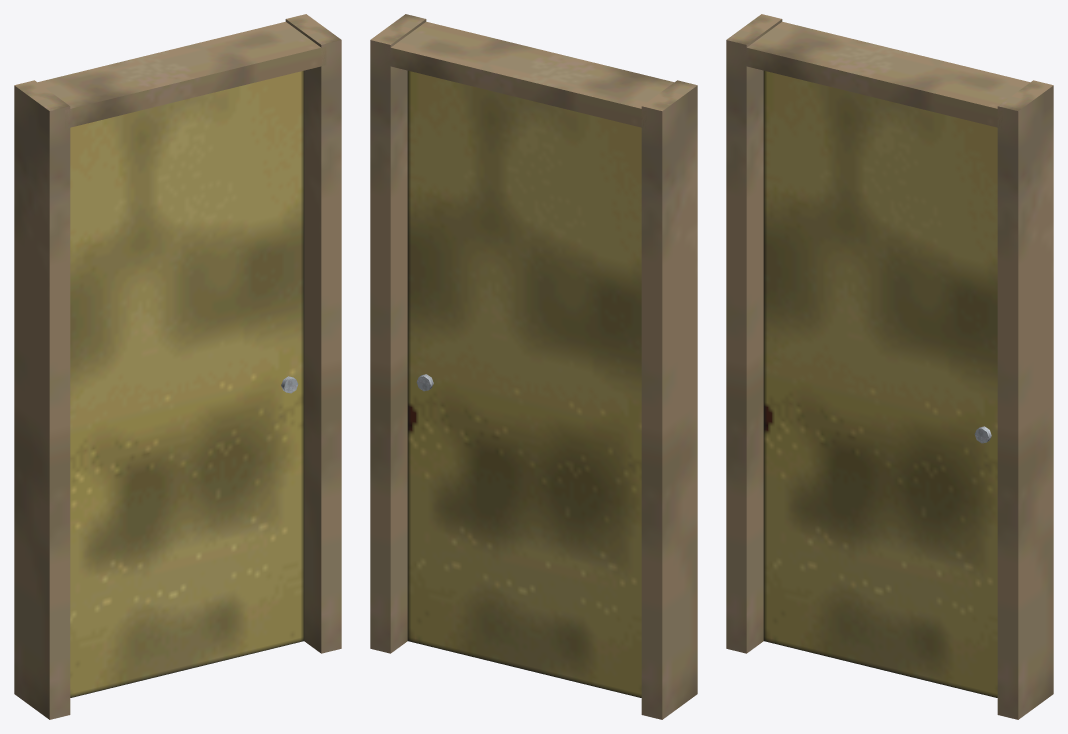
Rendered from door_yellow.fbx.
The picture shows the model from 3 angles, left to right: view 1: azimuth 30°, elevation 25°; view 2: azimuth 150°, elevation 25°; view 3: azimuth 330°, elevation 25°; orthographic projection.
Visible parts, largest first — view 1: door_yellow_leaf, door_yellow, door_yellow_casing_r, door_yellow_casing_top; view 2: door_yellow_leaf, door_yellow, door_yellow_casing_r, door_yellow_casing_top; view 3: door_yellow_leaf, door_yellow_casing_r, door_yellow, door_yellow_casing_top.
Part boxes in pixels (<box>): door_yellow_leaf: <box>70,70,304,697</box>; door_yellow: <box>14,80,70,719</box>; door_yellow_casing_r: <box>285,14,341,653</box>; door_yellow_casing_top: <box>38,21,326,128</box>; door_yellow_leaf: <box>407,70,641,697</box>; door_yellow: <box>641,80,697,719</box>; door_yellow_casing_r: <box>370,14,426,653</box>; door_yellow_casing_top: <box>385,21,673,128</box>; door_yellow_leaf: <box>763,70,997,697</box>; door_yellow_casing_r: <box>997,80,1053,719</box>; door_yellow: <box>726,14,782,653</box>; door_yellow_casing_top: <box>741,21,1029,128</box>.
Bounding box in the file's own units: 1.14 × 2.27 × 0.24.
